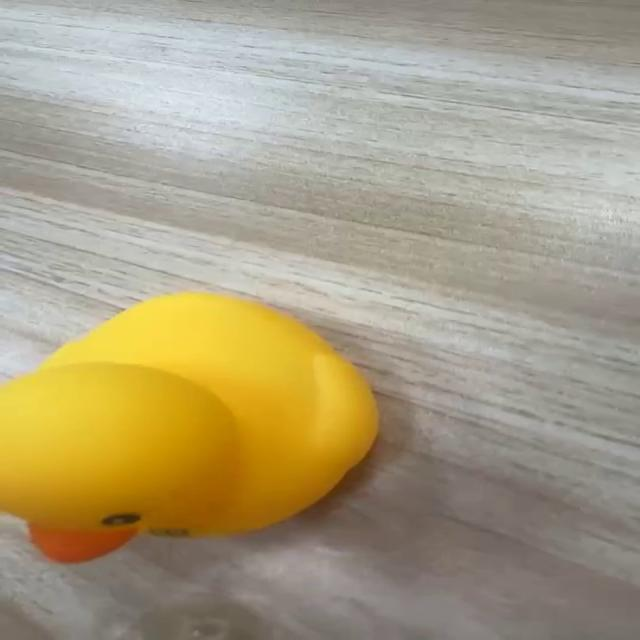yellow_duck: (1, 290, 381, 563)
